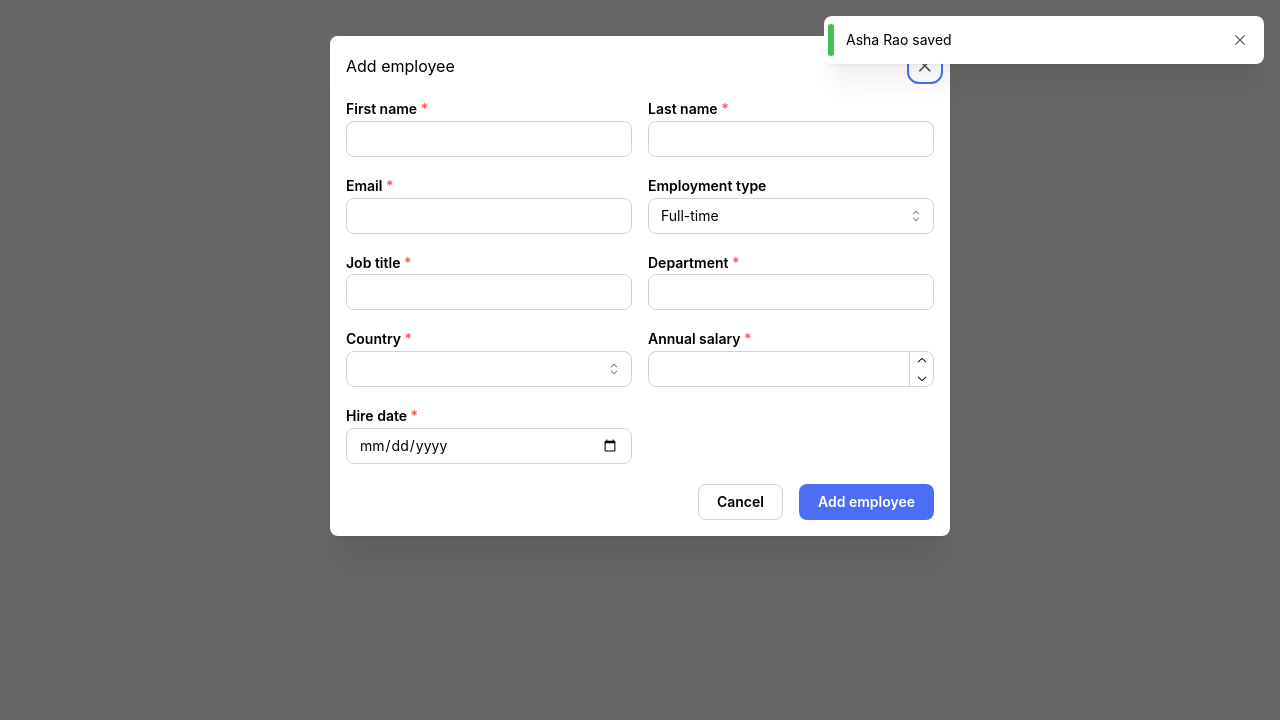
Scenario: EmployeeFormModal › shows the server's validation errors next to the fields
This screenshot has width=1280, height=720.
Click the button "Add employee". click: (866, 502)
box: x1=799 y1=484 x2=934 y2=520
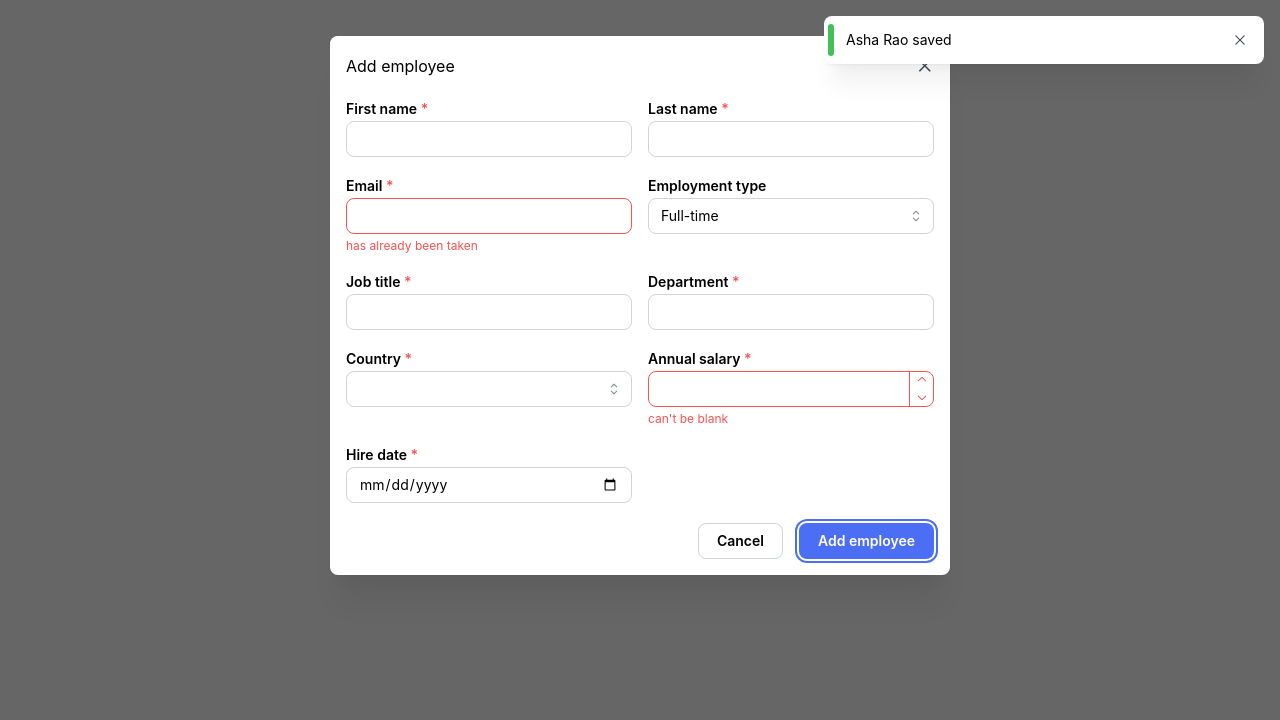
Result: the text "has already been taken" is shown at x1=346 y1=238 x2=478 y2=253
Result: the text "can't be blank" is shown at x1=648 y1=411 x2=728 y2=426
